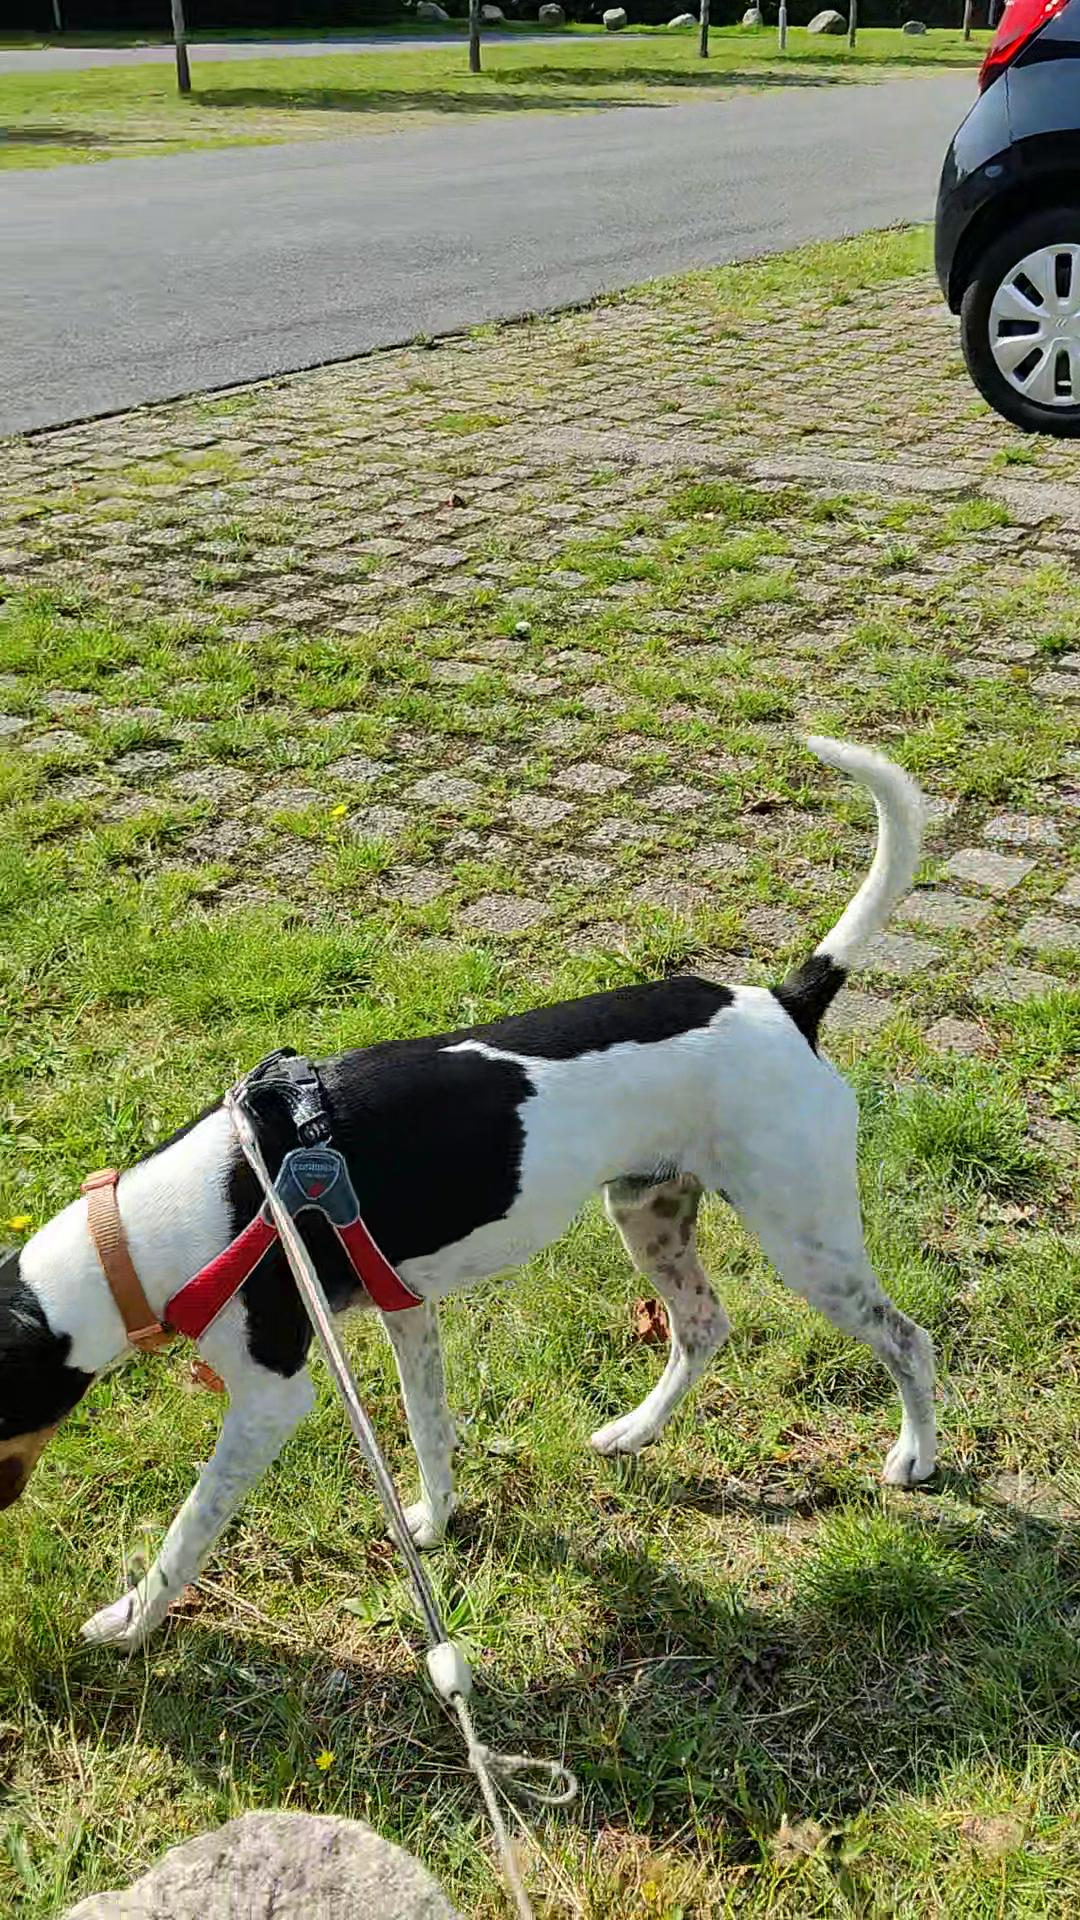Dog: (0, 717, 957, 1654)
